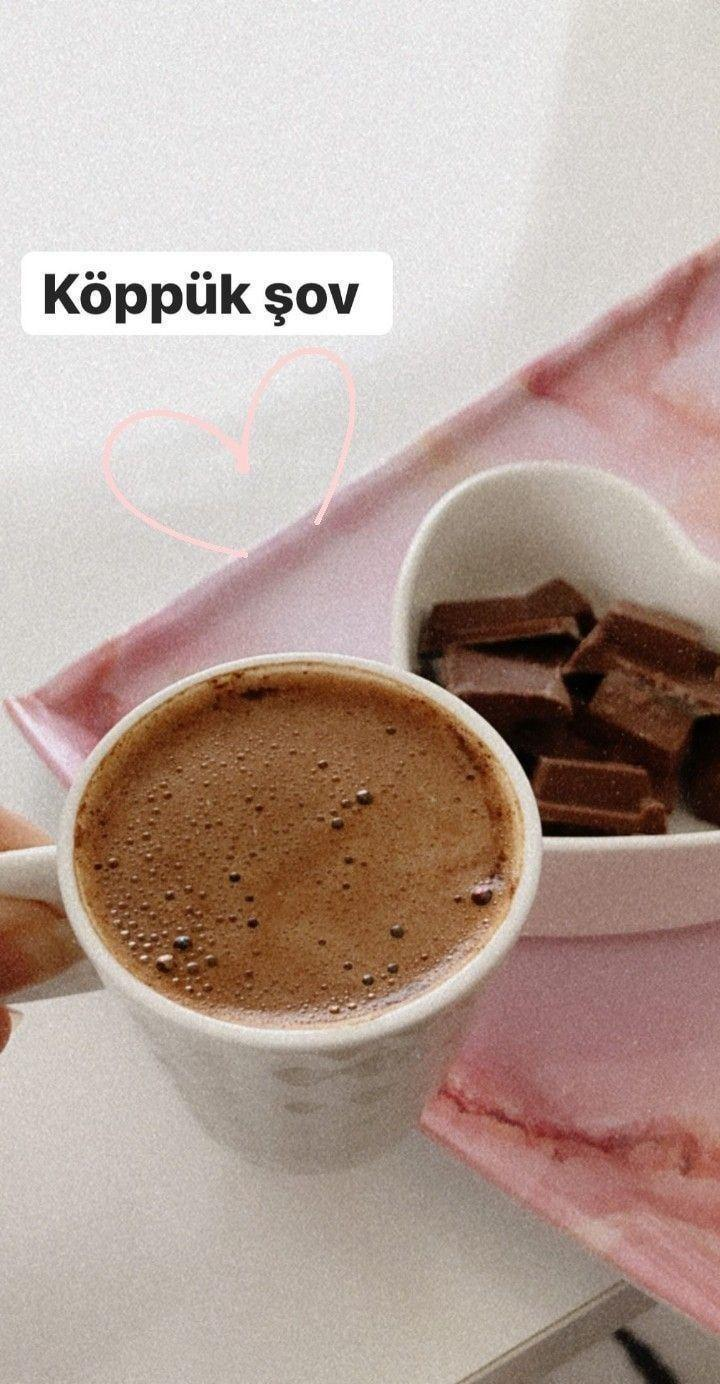cup-handle: (0, 648, 545, 1179)
